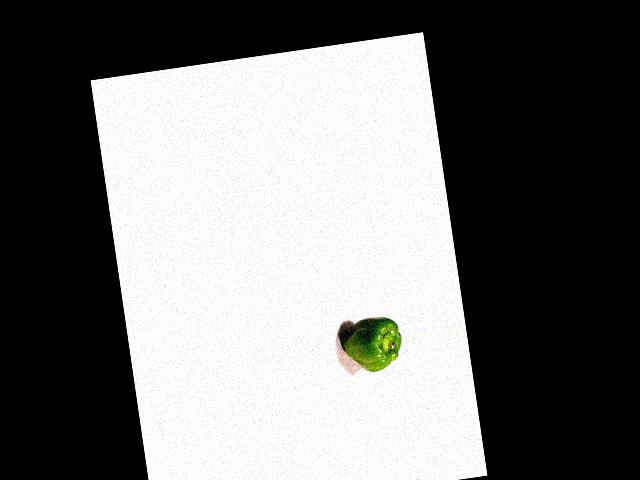bell_pepper: (336, 312, 405, 378)
